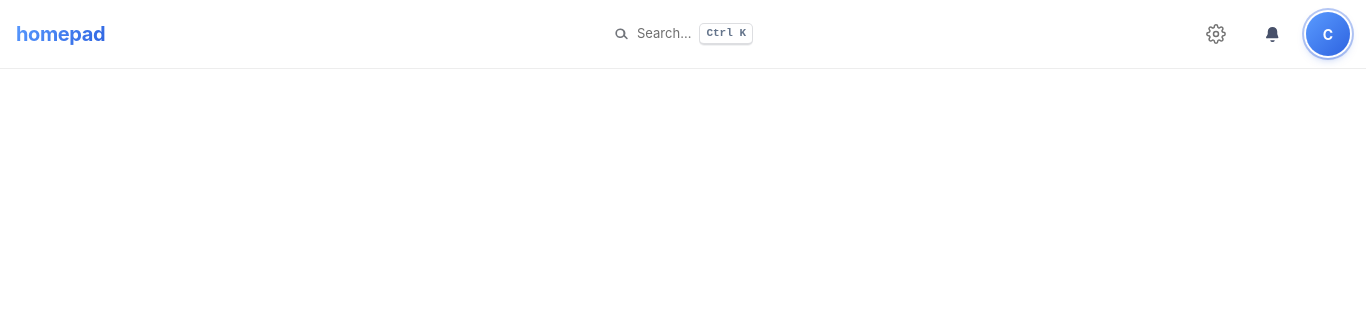
Test: A9 — menu closes on outside click and Escape › Escape closes the menu and restores focus to the gear
Click the button with test id "settings-gear". click: (1216, 34)
box: [1194,12,1238,56]
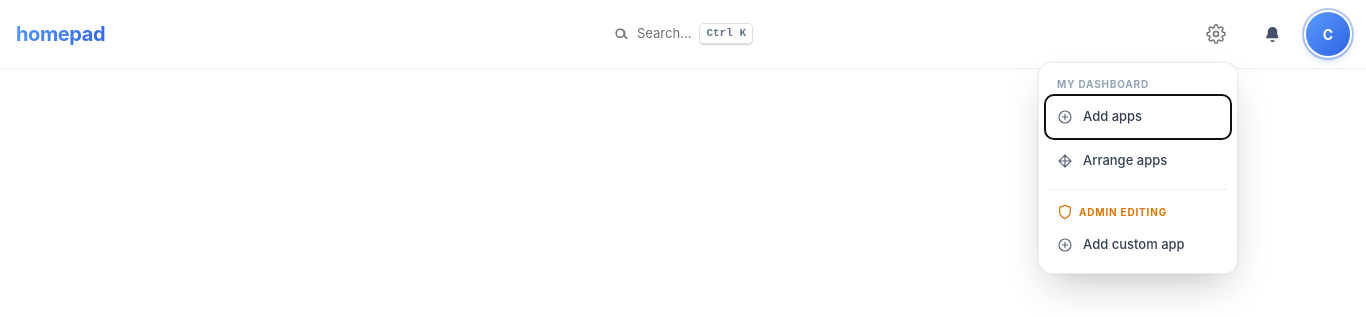
Expected: the menu with test id "gear-menu" is shown, [1038,62,1238,274]
Press Escape
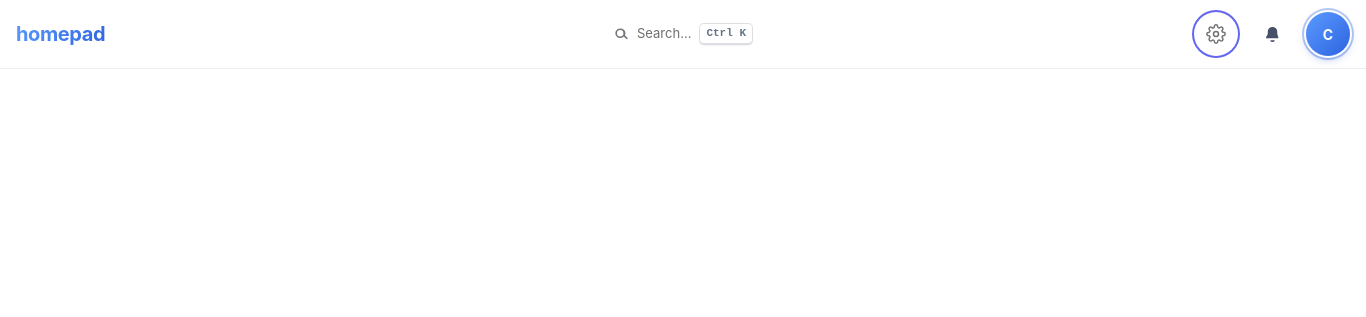
Expected: the menu with test id "gear-menu" is gone
